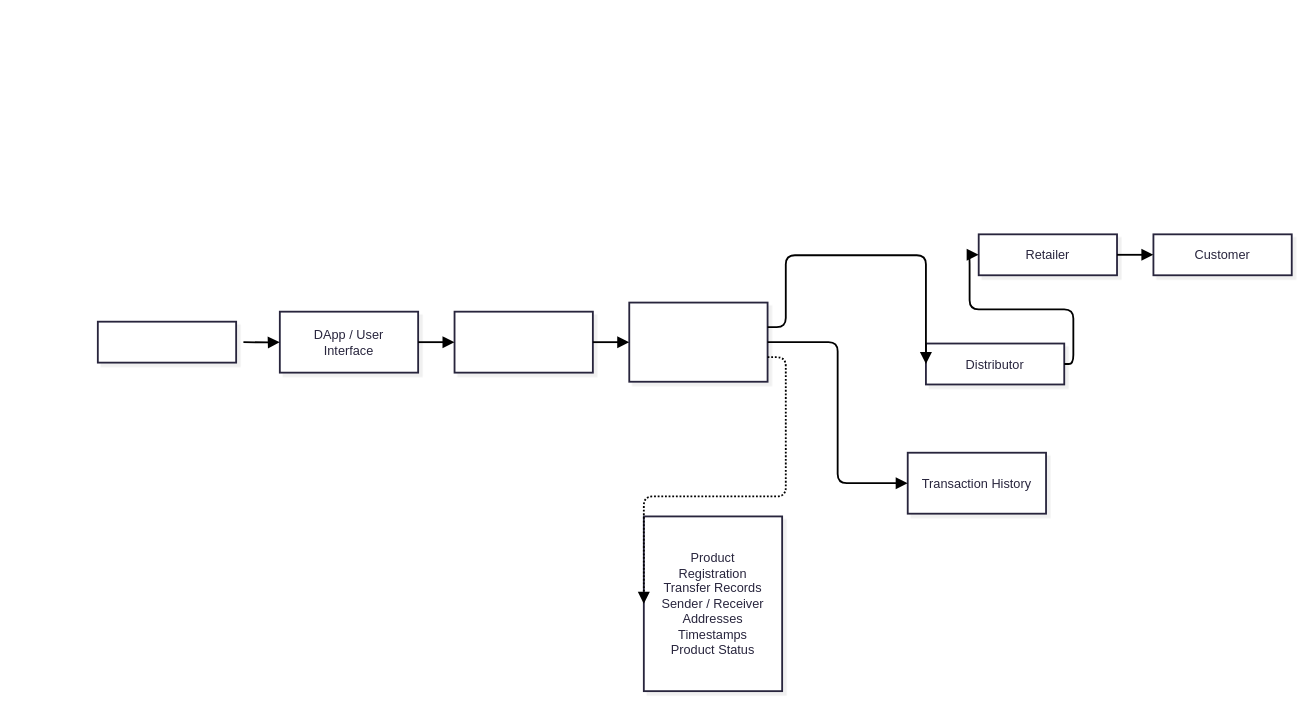
The diagram is 1311 pixels wide and 711 high, and some of its shapes have lost their labels. The centre of each missing label's shape, as x and y in pixels:
"Ethereum / Ganache Blockchain" belongs at (700,343).
"Farmer" belongs at (168,343).
"Solidity Smart Contract" belongs at (525,343).
